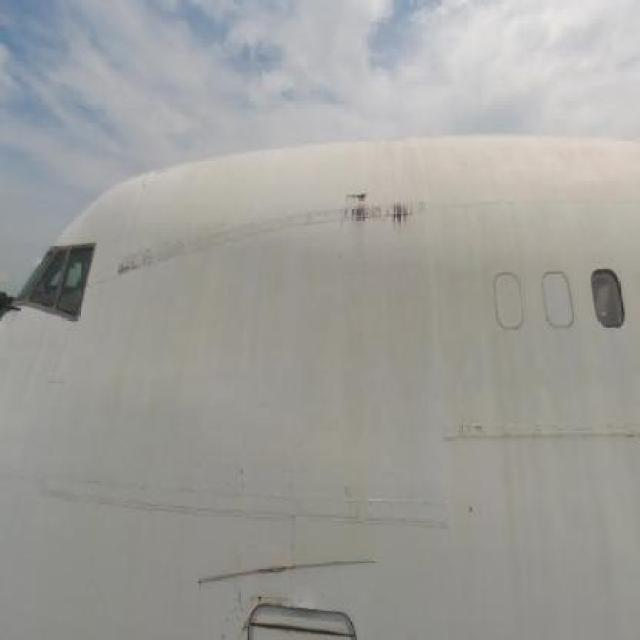Rust: (328, 178, 430, 250)
Scartch: (108, 251, 164, 291)
